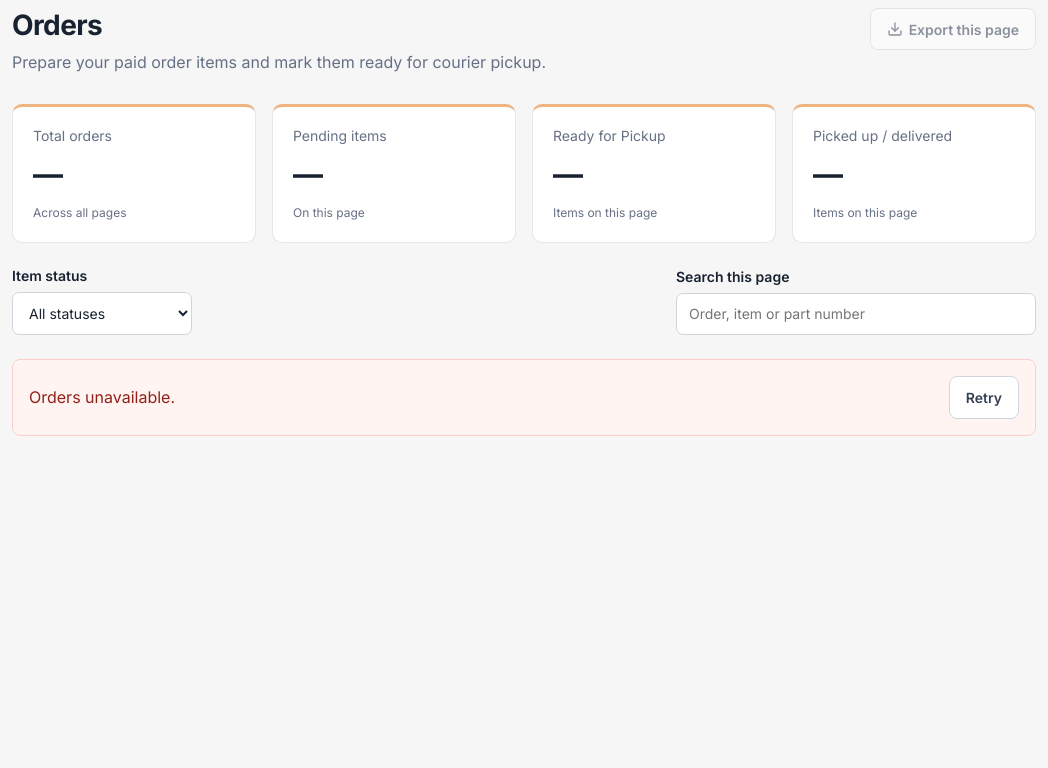
shows an API error with retry and then renders orders
Expected: the message shows "Orders unavailable.", [29, 387, 175, 407]
Click the button "Retry" at (984, 397), box [949, 376, 1019, 419]
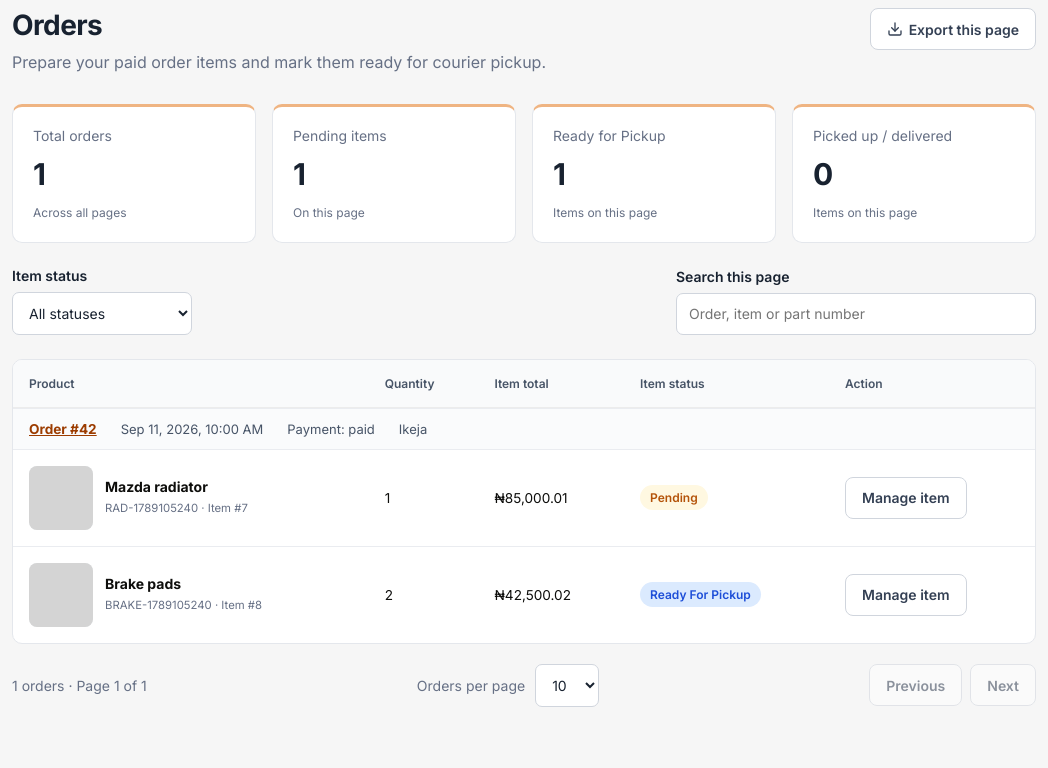
Result: the text "Mazda radiator" is shown at [105, 478, 208, 495]
